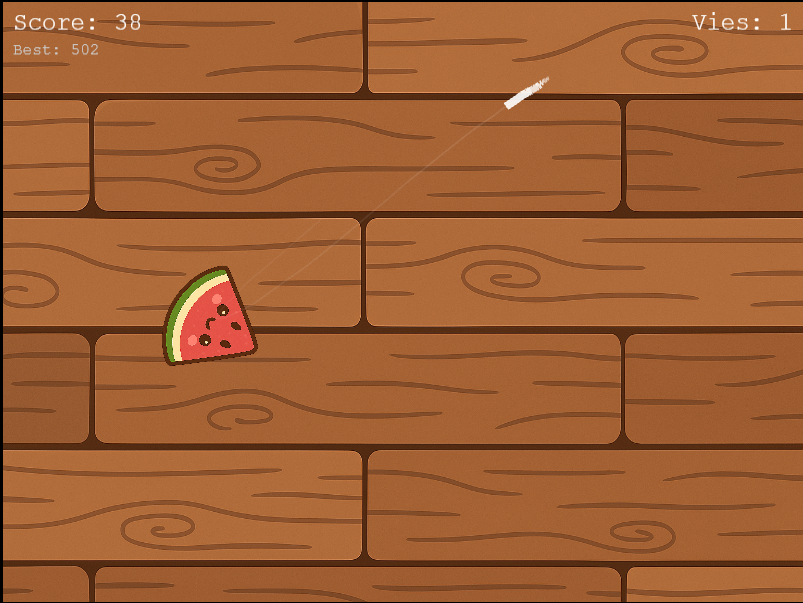fruit: (157, 260, 266, 371)
